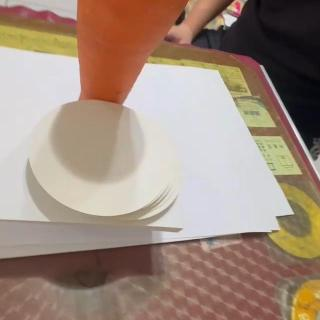carrot: (76, 0, 201, 104)
